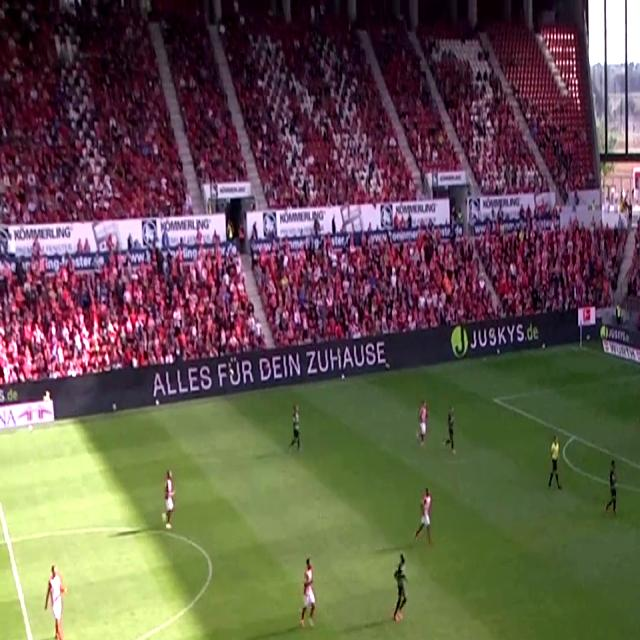referee: (545, 427, 565, 498)
soccer-player: (41, 560, 73, 640), (292, 554, 322, 634), (388, 550, 416, 626), (412, 489, 439, 550), (158, 468, 178, 535), (600, 453, 619, 521), (0, 493, 16, 568), (441, 404, 460, 456), (287, 404, 305, 457), (415, 398, 433, 449)
